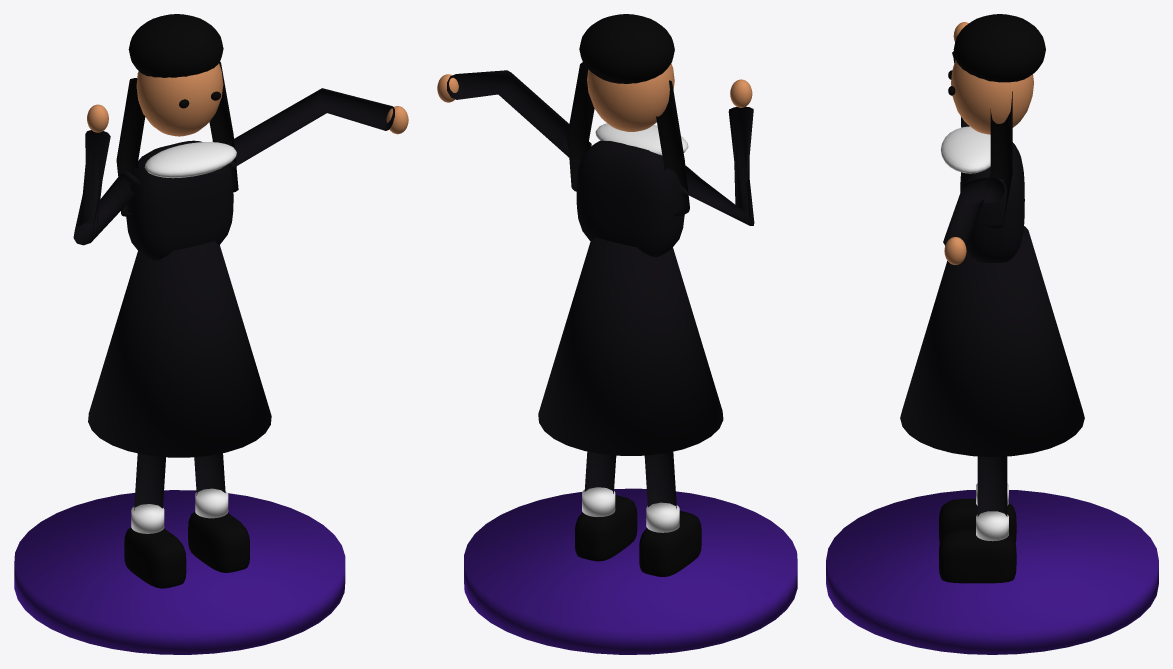
The model's file is GothDanceHands.fbx.
The picture shows the model from 3 angles, left to right: view 1: azimuth 30°, elevation 25°; view 2: azimuth 150°, elevation 25°; view 3: azimuth 270°, elevation 25°; orthographic projection.
Parts seen in each view (by area): view 1: GothDanceHands; view 2: GothDanceHands; view 3: GothDanceHands.
Boxes of the visible parts, box(x1,y1,x2,y2) form: GothDanceHands: box(14, 14, 408, 654); GothDanceHands: box(437, 14, 797, 654); GothDanceHands: box(826, 14, 1158, 654).
Bounding box in the file's own units: 2.21 × 3.37 × 1.8.
Materials: 1 (1 with a texture image).
